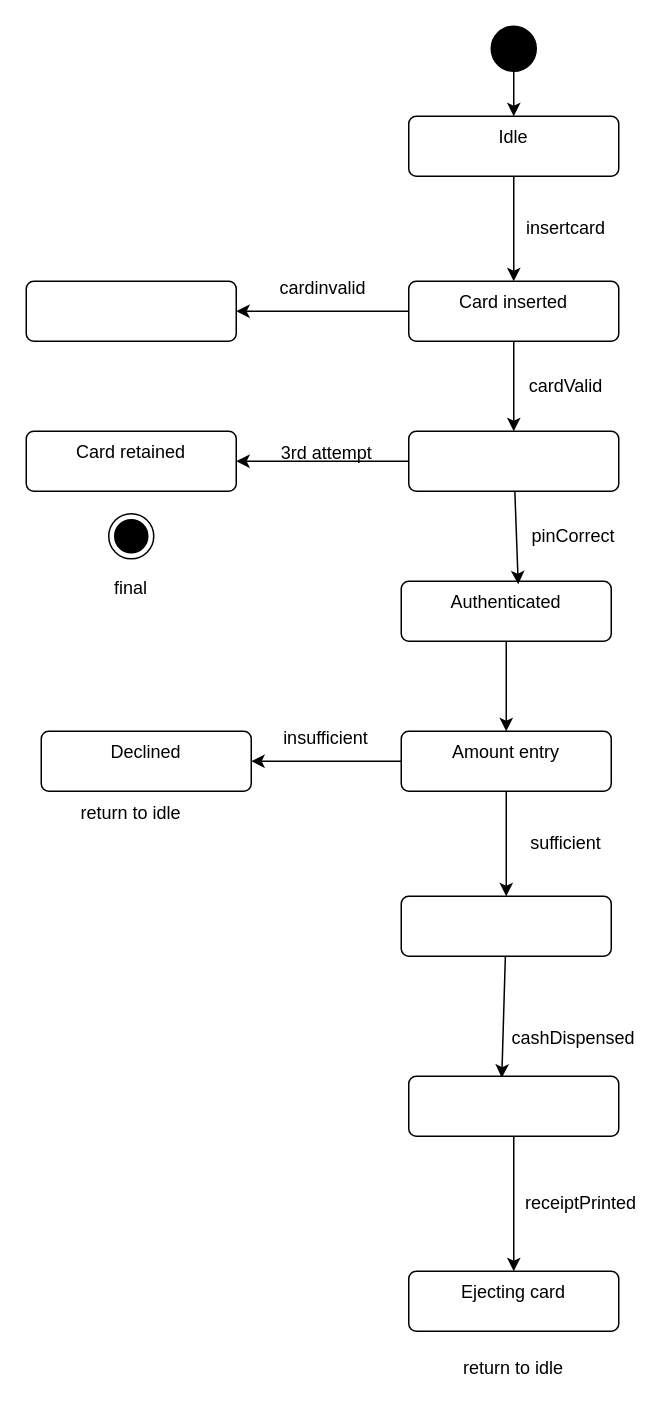
The diagram is 663 pixels wide and 1418 high, and some of its shapes have lost their labels. Each missing label, with the centre of its shape:
"Dispensing" belongs at pixel 505 925.
"Eject card" belongs at pixel 130 310.
"PIN entry" belongs at pixel 513 460.
"Printing receipt" belongs at pixel 513 1105.
